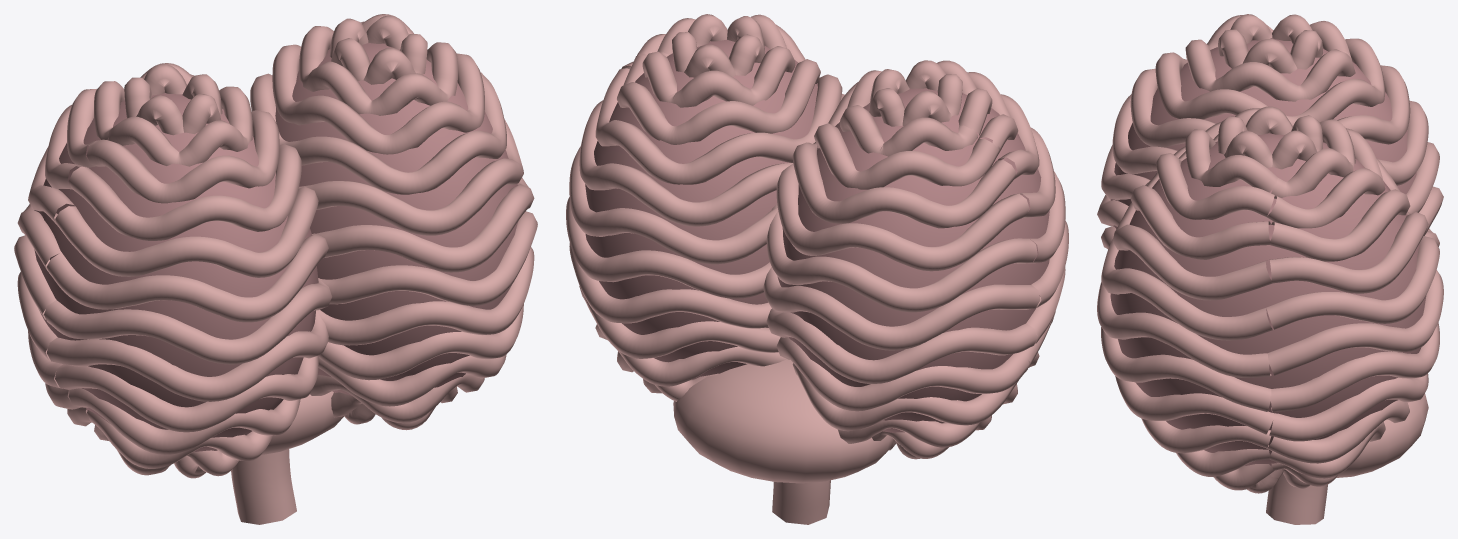
File: brain.glb
3 renders of one model, left to right at view 1: azimuth 30°, elevation 25°; view 2: azimuth 150°, elevation 25°; view 3: azimuth 270°, elevation 25°, orthographic. The views are drawn at different scales.
Parts seen in each view (by area): view 1: Cerebral hemisphere; view 2: Cerebral hemisphere; view 3: Cerebral hemisphere.
Boxes of the visible parts, x1=… form: Cerebral hemisphere: x1=14, y1=14, x2=537, y2=524; Cerebral hemisphere: x1=566, y1=14, x2=1068, y2=524; Cerebral hemisphere: x1=1097, y1=14, x2=1443, y2=524.
Bounding box in the file's own units: 2.08 × 2.01 × 1.42.
